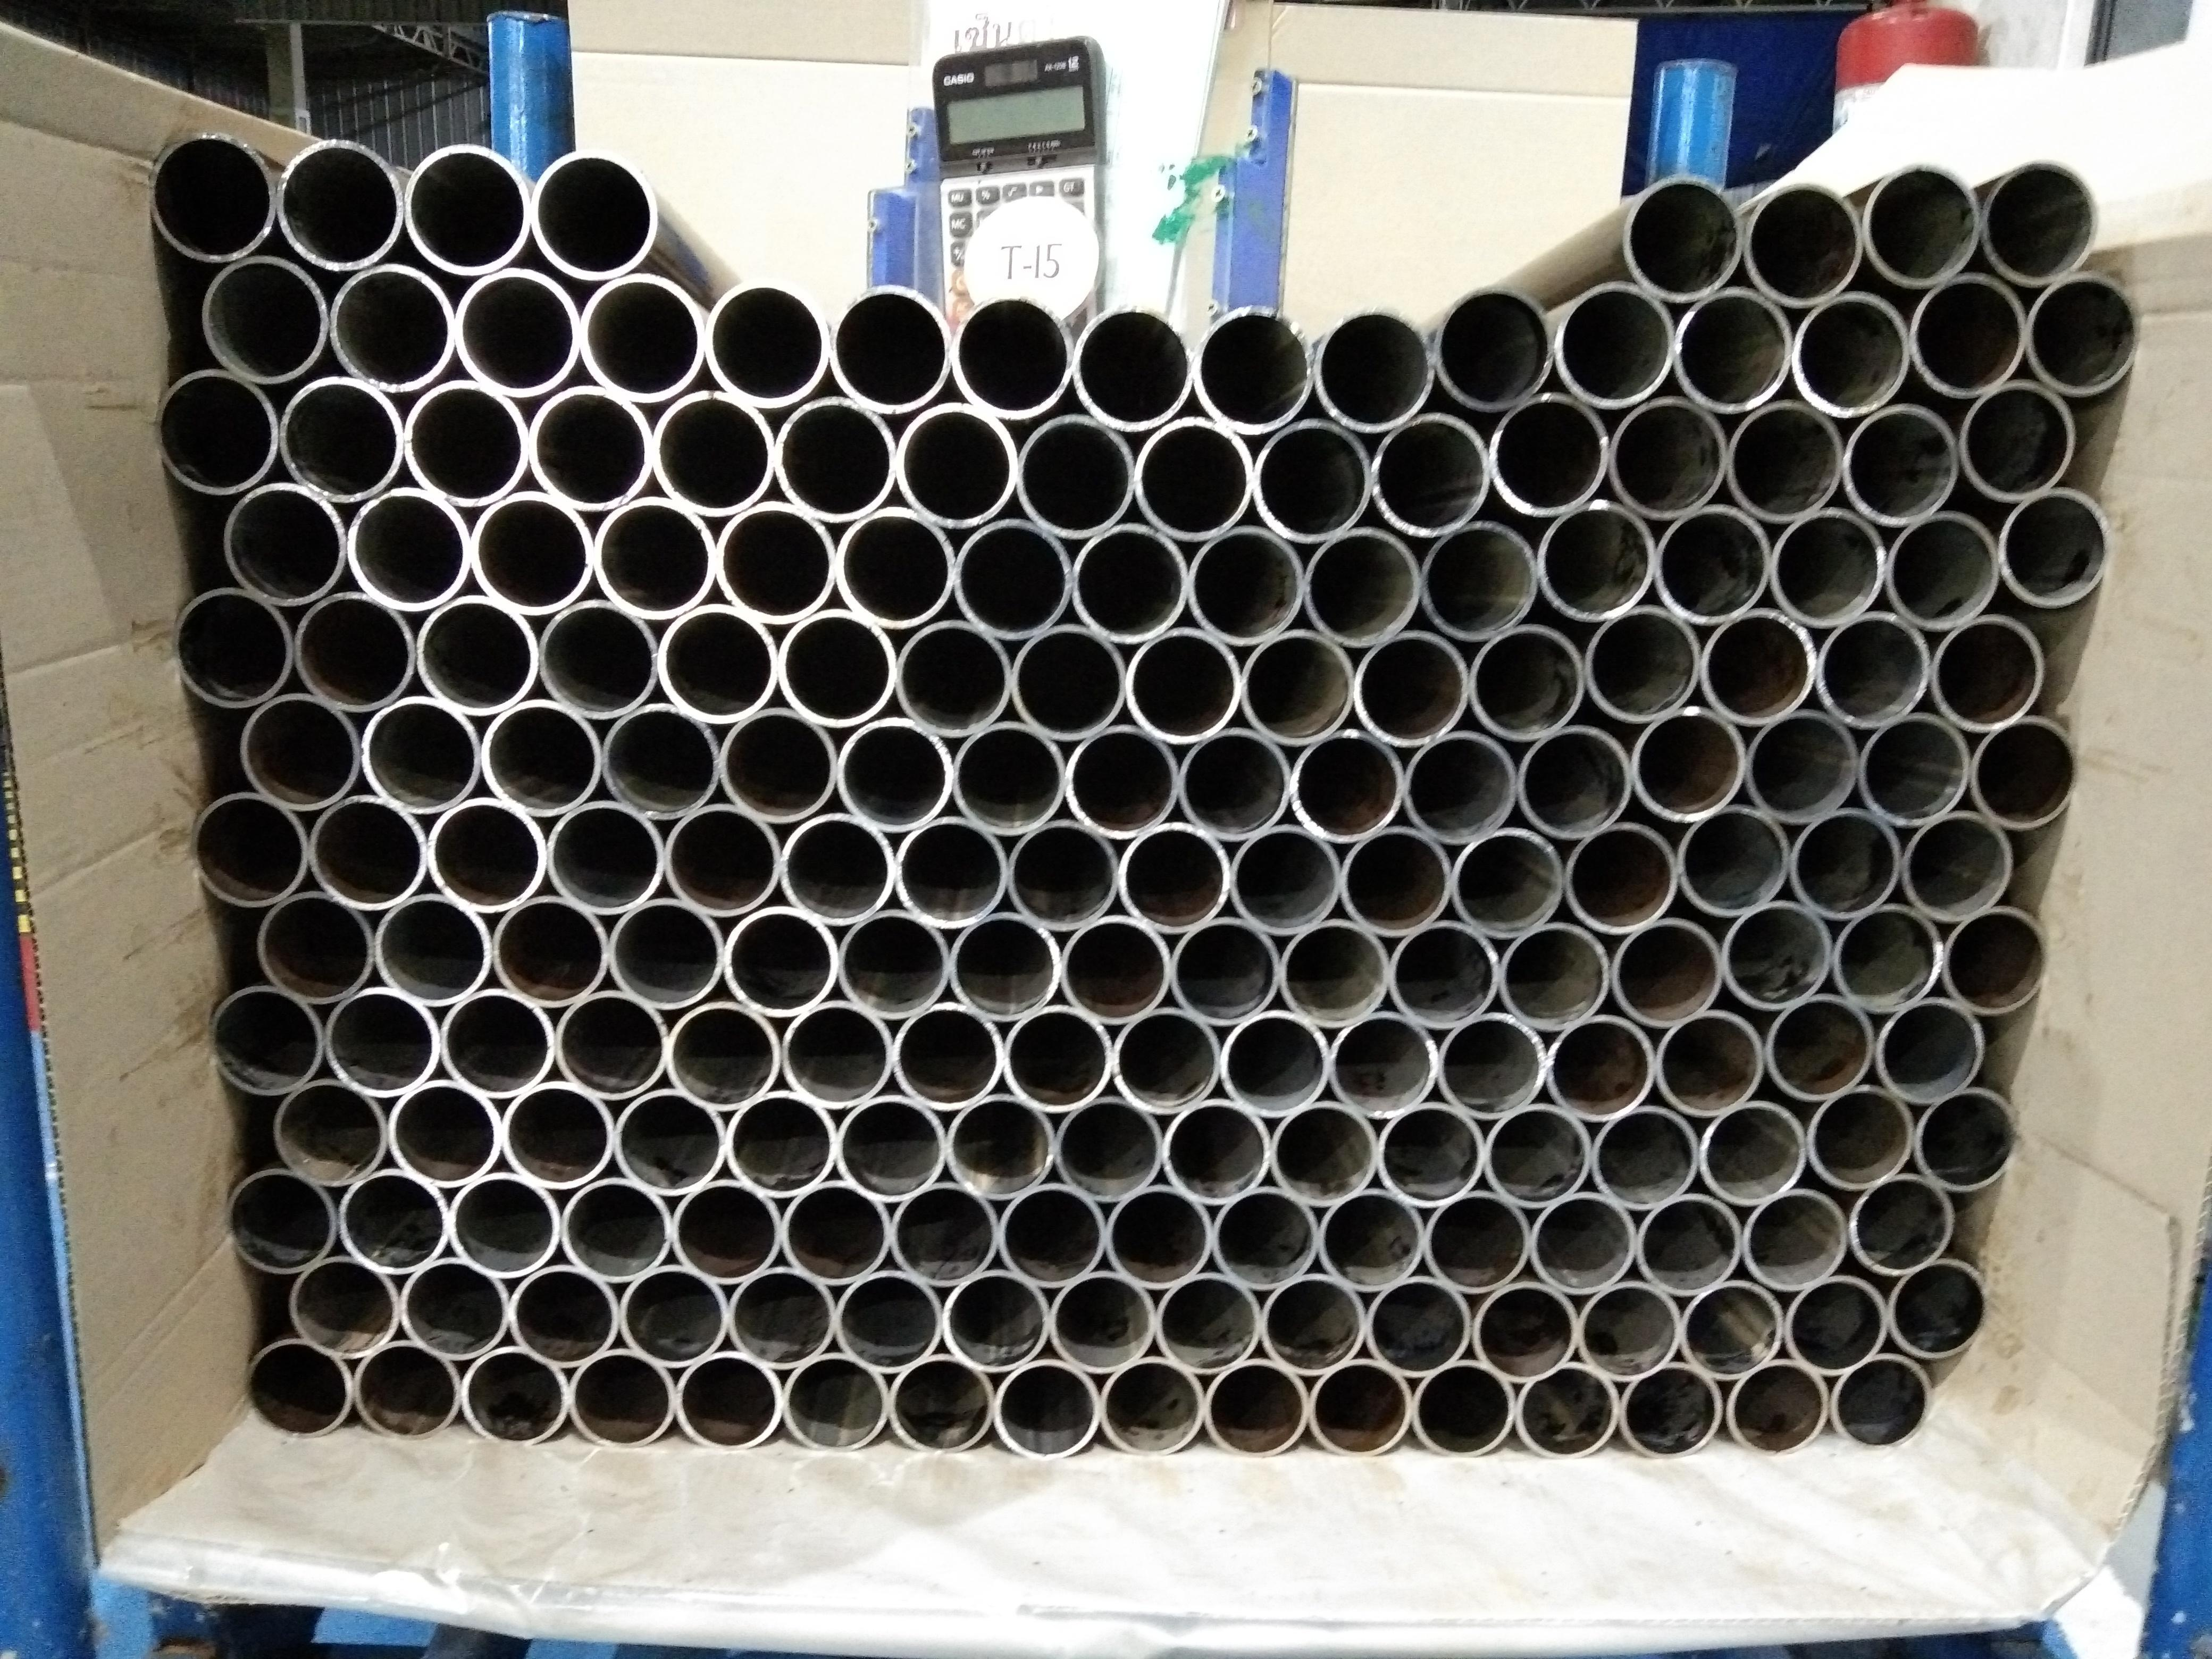pipe: (200, 247, 331, 387), (272, 136, 404, 270), (402, 139, 531, 277), (528, 146, 657, 281), (327, 258, 456, 392), (453, 263, 582, 397), (148, 129, 277, 260), (580, 270, 707, 403), (1975, 153, 2101, 288), (951, 288, 1076, 420), (402, 376, 529, 505), (1740, 173, 1864, 305), (827, 282, 953, 411), (705, 277, 831, 406), (277, 373, 402, 502), (1071, 298, 1195, 429), (1792, 282, 1912, 416), (155, 368, 280, 495), (772, 392, 897, 519), (650, 387, 775, 514), (223, 479, 348, 606), (1432, 282, 1555, 411), (1369, 408, 1493, 537), (1860, 159, 1980, 291), (1313, 301, 1437, 429), (528, 382, 651, 509), (1193, 301, 1315, 430), (345, 484, 470, 608), (1014, 410, 1136, 537), (1620, 174, 1742, 301), (895, 399, 1017, 526), (1554, 281, 1676, 408), (1604, 392, 1724, 521), (1723, 396, 1843, 525), (1672, 284, 1792, 413), (1251, 413, 1371, 542), (1909, 268, 2027, 399), (714, 500, 838, 624), (469, 490, 592, 613), (293, 589, 418, 711), (1489, 390, 1609, 518), (1418, 514, 1538, 641), (536, 596, 658, 720), (592, 495, 716, 617), (834, 505, 956, 629), (1134, 415, 1254, 540), (1841, 397, 1958, 526), (415, 594, 538, 714), (174, 586, 294, 709), (1536, 498, 1653, 626), (240, 690, 362, 810), (599, 701, 721, 821), (657, 601, 779, 721), (1069, 519, 1188, 643), (953, 514, 1071, 638), (1958, 376, 2073, 504), (2026, 268, 2141, 396), (777, 606, 897, 727), (1186, 523, 1305, 645), (481, 697, 603, 816), (1583, 603, 1702, 725), (361, 694, 482, 812), (1766, 505, 1885, 627), (1301, 523, 1420, 645), (1928, 606, 2041, 734), (1514, 720, 1634, 838), (660, 802, 780, 920), (427, 795, 547, 913), (834, 713, 953, 833), (1653, 502, 1770, 624), (1998, 484, 2111, 610), (894, 617, 1012, 735), (718, 706, 838, 823), (308, 793, 428, 910), (1883, 507, 2000, 627), (190, 791, 312, 906), (1353, 627, 1470, 746), (777, 809, 895, 925), (545, 798, 664, 915), (1698, 606, 1815, 725), (1562, 817, 1681, 934), (1468, 620, 1583, 741), (256, 889, 376, 1004), (1813, 608, 1928, 728), (949, 718, 1066, 835), (1008, 622, 1125, 739), (1125, 626, 1242, 742), (1630, 706, 1747, 823), (1240, 626, 1355, 744), (1676, 803, 1791, 922), (489, 894, 610, 1007), (1402, 727, 1517, 843), (608, 896, 725, 1011), (374, 890, 491, 1006), (1855, 709, 1970, 826), (1608, 913, 1726, 1026), (894, 812, 1008, 927), (1291, 727, 1406, 842), (723, 903, 838, 1018), (1064, 723, 1179, 838), (1177, 725, 1292, 840), (1449, 824, 1564, 939), (665, 993, 780, 1108), (836, 904, 951, 1019), (1005, 817, 1120, 931), (1743, 708, 1857, 823), (1968, 713, 2080, 829), (322, 985, 439, 1096), (948, 908, 1061, 1021), (1228, 823, 1341, 936), (1787, 805, 1900, 918), (439, 986, 556, 1096), (779, 999, 895, 1108), (1118, 821, 1230, 934), (1339, 824, 1453, 936), (554, 988, 667, 1100), (500, 1079, 613, 1190), (1496, 920, 1611, 1030), (211, 983, 326, 1093), (273, 1075, 388, 1185), (1900, 807, 2010, 922), (1277, 917, 1388, 1028), (1655, 1006, 1766, 1117), (1109, 1004, 1221, 1115), (1386, 918, 1498, 1030), (1829, 901, 1940, 1012), (1059, 913, 1172, 1023), (890, 1000, 1003, 1110), (559, 1173, 672, 1283), (1939, 903, 2048, 1016), (611, 1086, 726, 1194), (1169, 915, 1280, 1025), (1001, 1002, 1113, 1112), (1764, 992, 1874, 1103), (1721, 899, 1831, 1011), (725, 1089, 838, 1197), (388, 1077, 502, 1185), (1545, 1011, 1655, 1121), (1327, 1009, 1437, 1119), (946, 1091, 1055, 1201), (1219, 1007, 1329, 1117), (836, 1091, 948, 1199), (448, 1169, 559, 1277), (888, 1178, 1000, 1286), (1052, 1093, 1163, 1201), (225, 1166, 338, 1272), (1698, 1096, 1808, 1204), (1268, 1098, 1378, 1206), (1806, 1082, 1914, 1192), (1435, 1011, 1545, 1119), (1588, 1103, 1700, 1209), (780, 1178, 892, 1284), (671, 1176, 782, 1283), (338, 1166, 449, 1272), (1874, 995, 1982, 1103), (1482, 1101, 1590, 1209), (1423, 1187, 1531, 1295), (1527, 1188, 1635, 1297), (1160, 1096, 1270, 1202), (1634, 1190, 1743, 1297), (618, 1262, 730, 1366), (1104, 1182, 1212, 1288), (1742, 1183, 1848, 1291), (1317, 1185, 1425, 1291), (1848, 1171, 1954, 1279), (1374, 1100, 1484, 1204), (726, 1263, 836, 1368), (289, 1253, 401, 1356), (240, 1335, 354, 1436), (1049, 1267, 1155, 1373), (998, 1182, 1106, 1286), (942, 1267, 1050, 1371), (1211, 1185, 1318, 1290), (834, 1267, 944, 1370), (509, 1262, 618, 1364), (399, 1255, 509, 1358), (1155, 1269, 1261, 1373), (1364, 1272, 1470, 1377), (1259, 1270, 1366, 1375), (888, 1351, 995, 1455), (674, 1347, 782, 1450), (352, 1337, 460, 1439), (1470, 1277, 1578, 1380), (1099, 1352, 1204, 1457), (782, 1349, 888, 1452), (995, 1354, 1101, 1457), (1886, 1256, 1989, 1363), (460, 1344, 568, 1445), (1914, 1086, 2017, 1190), (1784, 1272, 1890, 1373), (568, 1347, 674, 1448), (1204, 1356, 1310, 1457), (1831, 1351, 1933, 1453), (1576, 1277, 1679, 1380), (1308, 1356, 1411, 1459), (1679, 1277, 1782, 1378), (1413, 1358, 1515, 1459), (1515, 1359, 1616, 1460), (1618, 1361, 1723, 1459), (1726, 1358, 1831, 1455)
